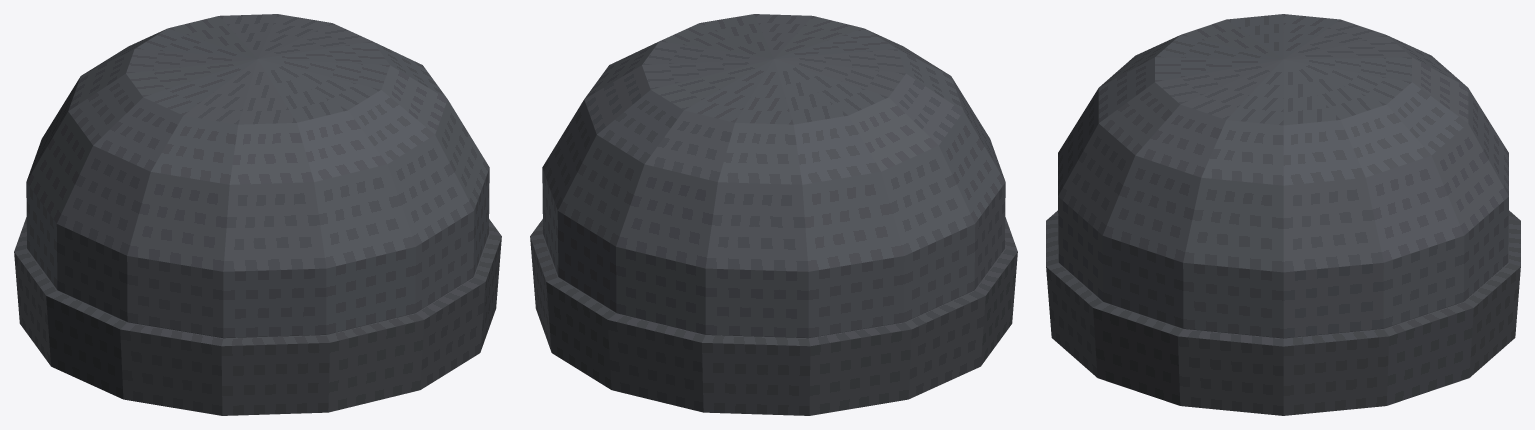
File: hat_knit.glb
The picture shows the model from 3 angles, left to right: view 1: azimuth 30°, elevation 25°; view 2: azimuth 150°, elevation 25°; view 3: azimuth 270°, elevation 25°; orthographic projection.
Visible parts, largest first — view 1: block_fabric crown, block_turn-up cuff; view 2: block_fabric crown, block_turn-up cuff; view 3: block_fabric crown, block_turn-up cuff.
Boxes of the visible parts, x1=… form: block_fabric crown: x1=26, y1=14, x2=489, y2=338; block_turn-up cuff: x1=14, y1=217, x2=501, y2=415; block_fabric crown: x1=542, y1=14, x2=1005, y2=338; block_turn-up cuff: x1=530, y1=217, x2=1017, y2=415; block_fabric crown: x1=1058, y1=14, x2=1508, y2=338; block_turn-up cuff: x1=1046, y1=210, x2=1520, y2=415.
Size of the model in its own units: 0.23 by 0.1334 by 0.2242.
Materials: 1 (1 with a texture image).
